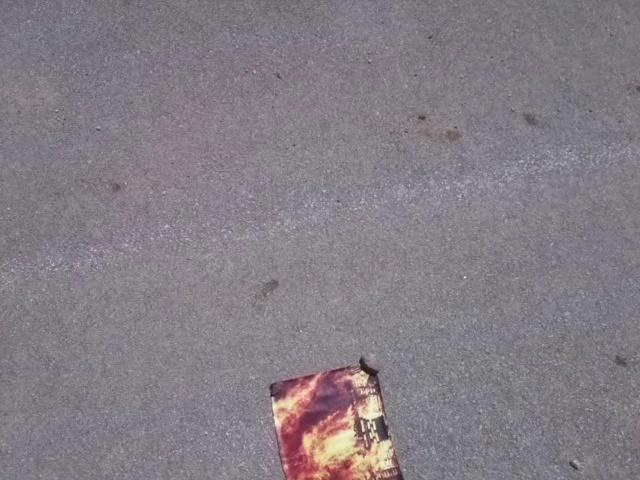fire-poster: (266, 354, 407, 479)
